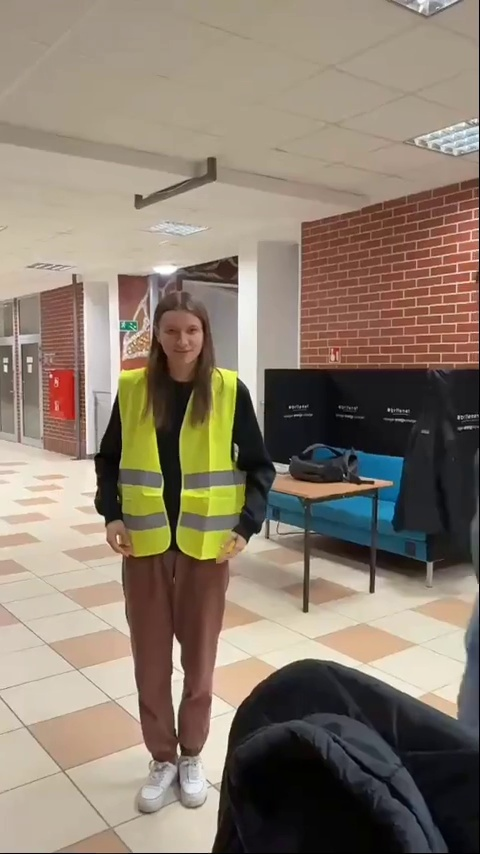vest: (97, 288, 279, 815)
